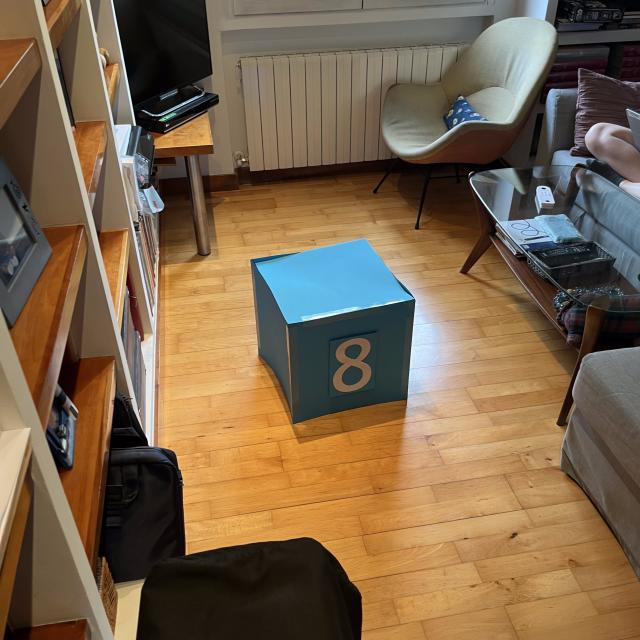box: (245, 234, 419, 425)
